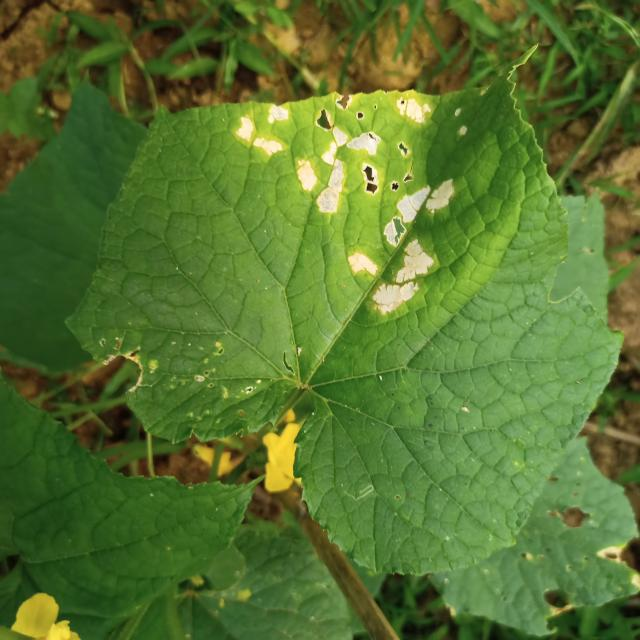disease_cucumber: (230, 91, 478, 332)
